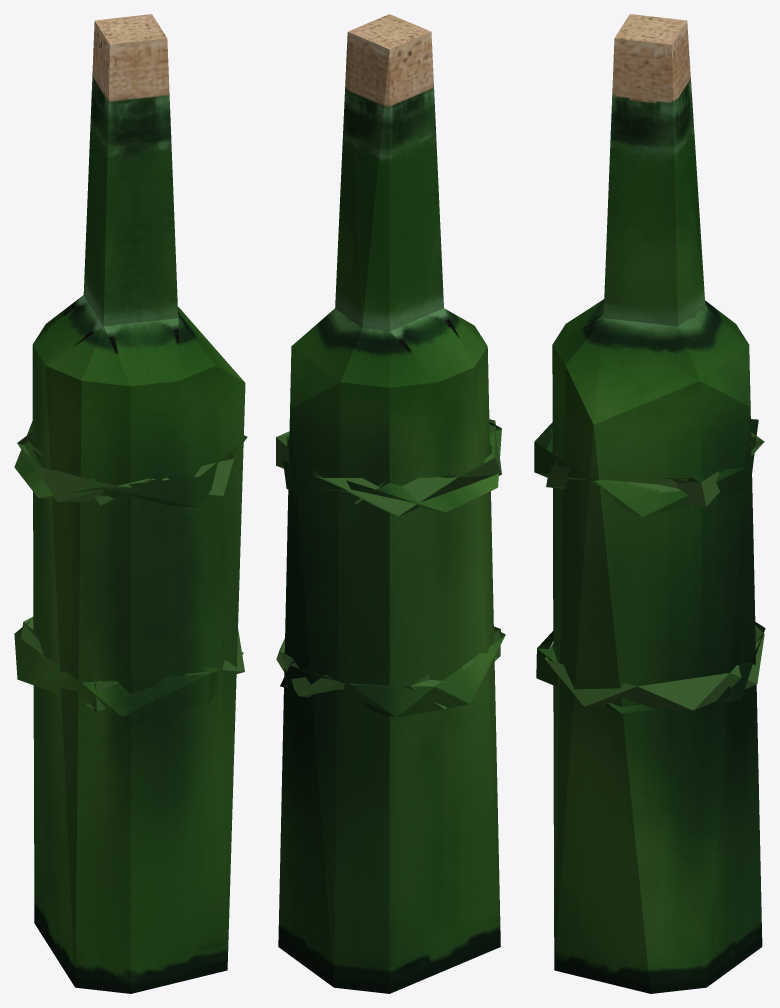
The model's file is bottle_lod1.glb.
The picture shows the model from 3 angles, left to right: view 1: azimuth 30°, elevation 25°; view 2: azimuth 150°, elevation 25°; view 3: azimuth 270°, elevation 25°; orthographic projection.
Parts seen in each view (by area): view 1: geometry_0; view 2: geometry_0; view 3: geometry_0.
Part boxes in pixels (box(x1,y1,x2,y2)): geometry_0: box(14, 14, 247, 993); geometry_0: box(276, 14, 505, 993); geometry_0: box(534, 14, 765, 993).
Size of the model in its own units: 0.1495 by 0.6498 by 0.1484.
1 material, 1 textured.
